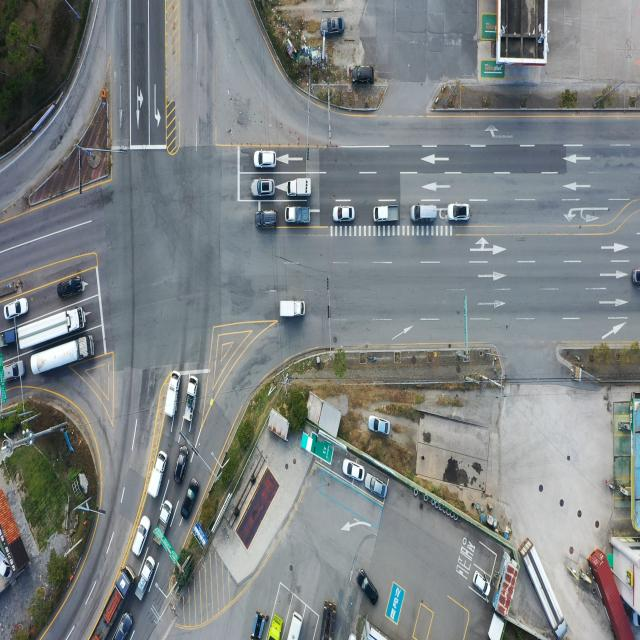car: (357, 570, 378, 607), (133, 516, 151, 558), (108, 612, 133, 640), (182, 478, 198, 520), (58, 276, 85, 299), (366, 475, 388, 501), (4, 299, 28, 321), (175, 444, 188, 483), (2, 360, 26, 381), (474, 570, 492, 598), (412, 204, 438, 223), (344, 459, 365, 482), (367, 416, 390, 437), (356, 60, 380, 80), (255, 210, 278, 229), (321, 18, 345, 36), (448, 204, 471, 222), (254, 150, 276, 168), (252, 179, 274, 197), (335, 206, 356, 223)
medium_truck: (523, 538, 569, 637), (13, 310, 85, 352), (29, 333, 96, 378), (96, 563, 136, 637), (319, 601, 336, 640)
small_bus: (288, 610, 302, 640)
small_truck: (136, 555, 157, 603), (150, 451, 170, 500), (153, 499, 173, 545), (165, 371, 181, 419), (183, 377, 197, 424), (373, 205, 400, 225), (278, 300, 304, 320), (284, 205, 310, 224), (288, 178, 312, 198), (268, 614, 283, 640), (0, 329, 16, 350), (252, 612, 264, 640)
